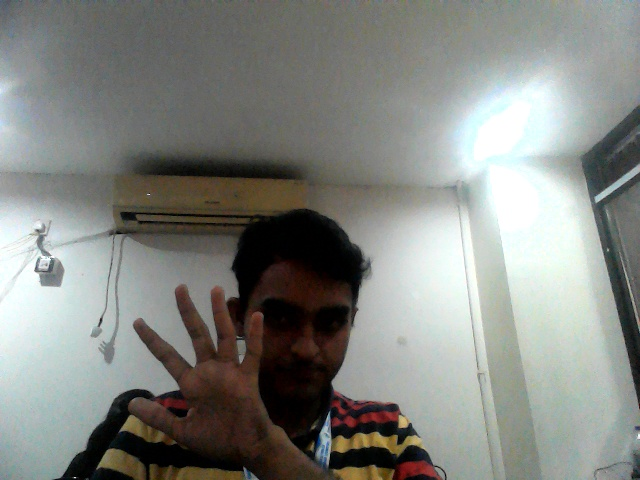palm: (126, 282, 283, 459)
